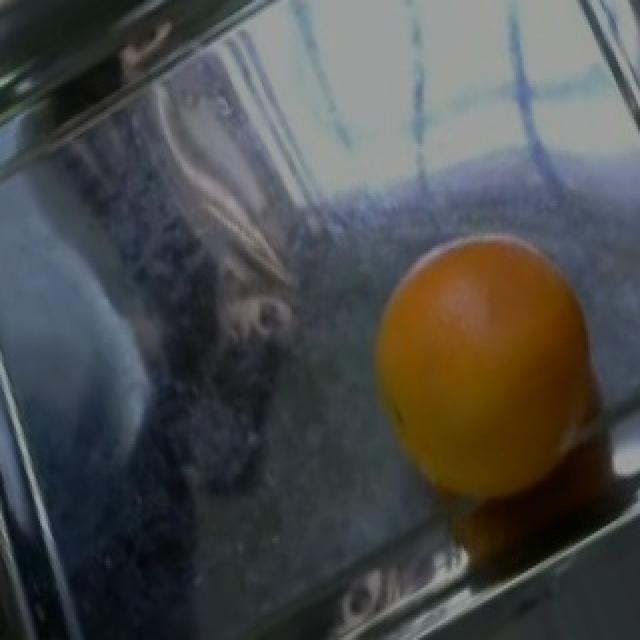Fruit: (352, 211, 626, 533)
